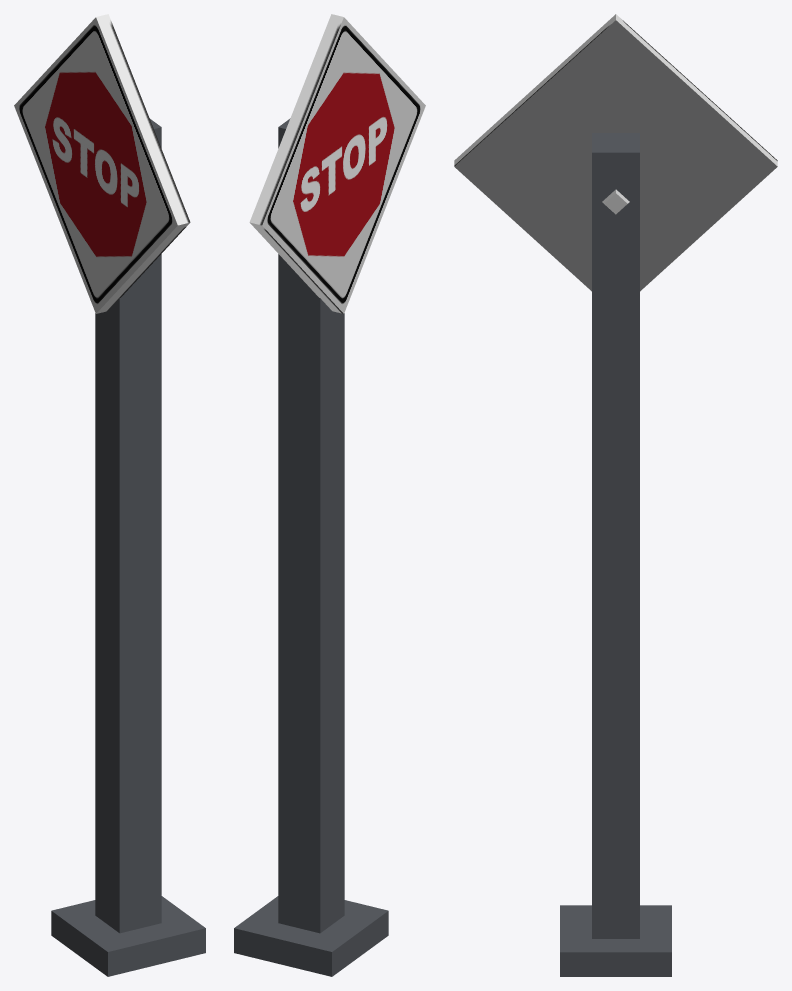
The model's file is SM_SignBoard_5.fbx.
The picture shows the model from 3 angles, left to right: view 1: azimuth 30°, elevation 25°; view 2: azimuth 150°, elevation 25°; view 3: azimuth 270°, elevation 25°; orthographic projection.
Visible parts, largest first — view 1: SM_SignBoard_5_LOD0; view 2: SM_SignBoard_5_LOD0; view 3: SM_SignBoard_5_LOD0.
Part boxes in pixels (x1,y1,x2,y2): SM_SignBoard_5_LOD0: (14, 14, 205, 976); SM_SignBoard_5_LOD0: (234, 14, 425, 976); SM_SignBoard_5_LOD0: (454, 14, 777, 976).
Size of the model in its own units: 35 by 101 by 319.
1 material, 1 textured.
